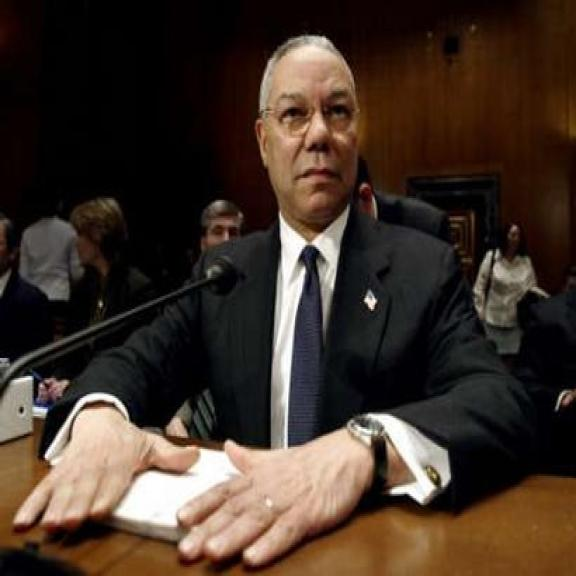face: (254, 62, 365, 225), (196, 213, 244, 261), (75, 212, 107, 272), (504, 220, 526, 262)
